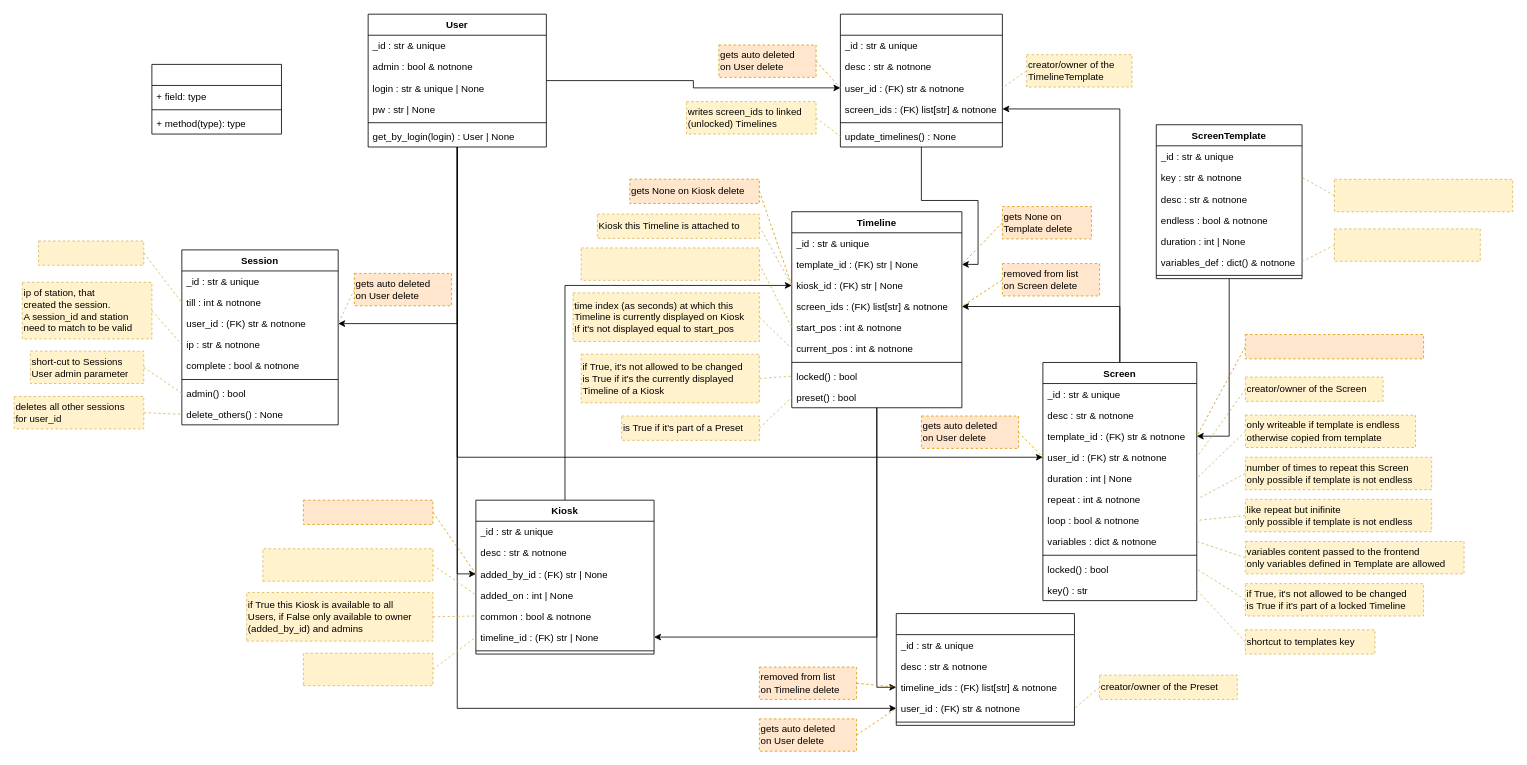
This 1527x765 diagram has some shape labels left out. The shapes that lost their labels are listed below. From the top down, each one's box as (x1, y1, x2, y2) in pixels, then its label:
(151, 64, 281, 134): Setting
(840, 13, 1002, 147): TimelineTemplate
(1334, 179, 1513, 212): string which is used by the Frontend to l oad the corresponding screen
(38, 240, 144, 265): as timestamp, needs to be in the future
(580, 247, 759, 280): time index (as seconds) a which this Timeline is stared, when displayed
(1334, 228, 1480, 261): definition of variables that can (or must) be filled by a Screen
(1245, 334, 1424, 359): gets auto deleted on Template delete
(303, 499, 433, 524): gets None on User delete
(262, 548, 433, 581): as timestamp, if it is None the Kiosk is not yet accepted by an admin
(303, 652, 433, 686): Timeline, that is currently displayed on this Kiosk
(895, 613, 1074, 725): Preset
